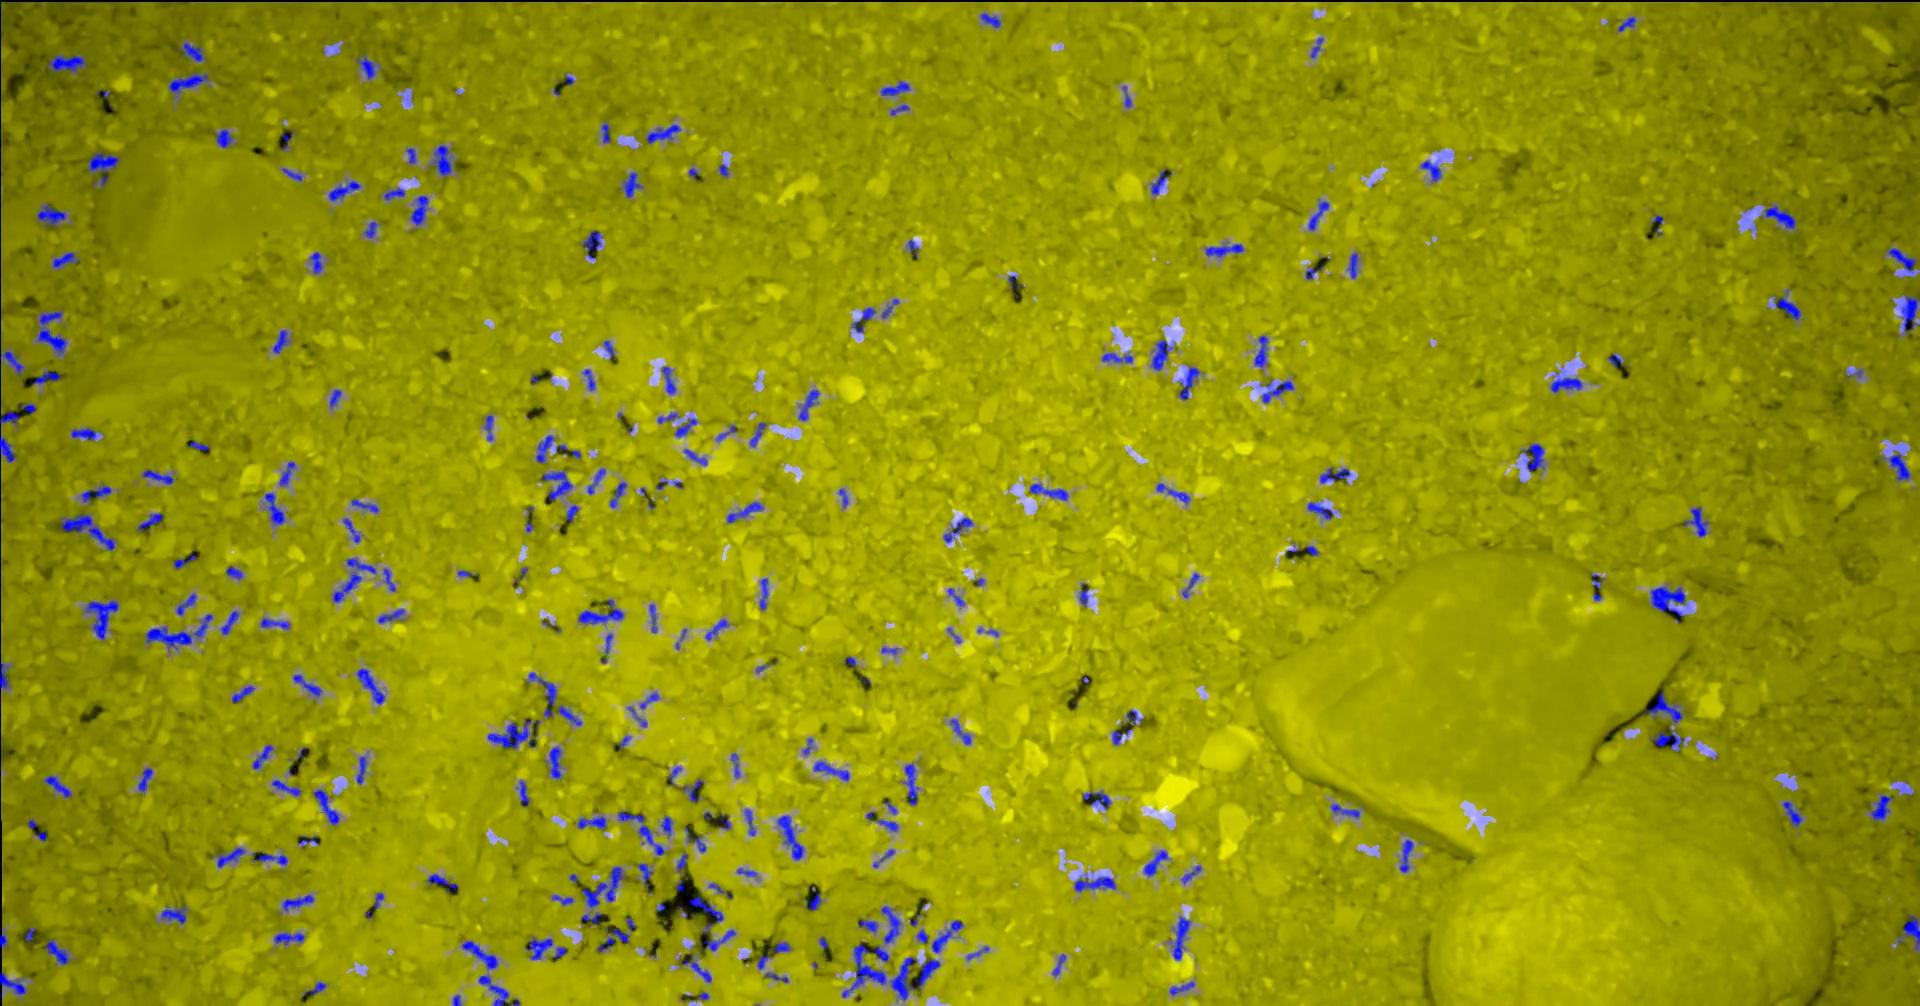ant: (146, 614, 215, 649), (618, 810, 665, 855), (61, 513, 116, 550), (334, 558, 378, 602), (583, 866, 627, 907), (489, 718, 541, 748), (37, 310, 69, 354), (85, 600, 119, 639), (1652, 586, 1688, 622), (530, 672, 557, 716), (1644, 691, 1684, 721), (89, 150, 121, 187), (778, 815, 805, 859), (579, 600, 625, 622), (1114, 710, 1144, 744), (463, 940, 499, 968), (1881, 450, 1912, 480), (933, 920, 964, 951), (358, 668, 386, 702), (170, 72, 210, 97), (315, 789, 342, 824), (690, 895, 725, 922), (480, 974, 510, 1005), (1890, 246, 1920, 276), (543, 471, 574, 500), (683, 953, 712, 982), (1173, 916, 1192, 960), (1761, 205, 1797, 227), (728, 500, 764, 522), (1898, 913, 1920, 950), (1775, 290, 1802, 319), (598, 927, 630, 951), (1076, 873, 1117, 890), (945, 517, 974, 542), (883, 904, 902, 942), (1180, 366, 1201, 399), (38, 203, 67, 227), (1686, 507, 1710, 536), (48, 55, 88, 72), (1153, 339, 1176, 370), (1263, 380, 1295, 401), (705, 929, 737, 950), (1031, 483, 1069, 500), (1158, 483, 1191, 503), (265, 492, 286, 525), (1653, 730, 1686, 751), (1902, 295, 1920, 332), (648, 124, 682, 144), (815, 761, 850, 780), (434, 144, 455, 175), (330, 180, 362, 201), (1552, 372, 1583, 392), (800, 389, 820, 420), (1145, 850, 1170, 876), (47, 937, 71, 964), (1523, 443, 1545, 471), (1309, 201, 1331, 230), (217, 847, 248, 868), (1, 970, 27, 995), (46, 775, 72, 798), (1872, 794, 1895, 821), (295, 674, 323, 696), (177, 41, 206, 61), (83, 484, 112, 504), (905, 762, 919, 804), (853, 307, 877, 332), (1, 351, 25, 375), (428, 873, 458, 892), (686, 826, 707, 852), (527, 937, 554, 959), (584, 230, 604, 258), (411, 196, 430, 225), (951, 718, 971, 744), (283, 894, 315, 911), (706, 619, 730, 640), (254, 744, 276, 768), (358, 53, 378, 79), (1208, 243, 1244, 257), (273, 779, 303, 795), (537, 434, 555, 462), (559, 705, 583, 725), (625, 171, 644, 197), (138, 512, 164, 531), (1784, 800, 1803, 826), (163, 904, 188, 923), (1152, 168, 1170, 194), (589, 467, 607, 494), (253, 851, 290, 864), (177, 593, 198, 615), (676, 417, 698, 437), (684, 779, 705, 801), (143, 469, 177, 483), (1084, 793, 1112, 809), (1401, 840, 1415, 873), (611, 481, 629, 507), (1183, 572, 1201, 597), (33, 370, 62, 385), (1255, 335, 1269, 367), (222, 610, 240, 634), (232, 685, 257, 702), (1, 0, 15, 30), (883, 80, 910, 95), (1, 434, 17, 462), (1321, 467, 1351, 481), (281, 461, 297, 486), (1309, 502, 1335, 518), (550, 746, 563, 779), (1422, 160, 1443, 180), (579, 815, 608, 829), (639, 862, 654, 889), (274, 329, 291, 353), (750, 422, 767, 446), (684, 448, 709, 465), (344, 518, 361, 542), (378, 608, 406, 622), (1333, 804, 1361, 818), (55, 251, 80, 267), (602, 633, 615, 663), (949, 587, 966, 608), (663, 366, 677, 392), (353, 498, 380, 512), (138, 767, 154, 791), (303, 981, 328, 996), (1183, 865, 1203, 884), (1171, 981, 1196, 995), (808, 887, 823, 909), (217, 128, 235, 147), (518, 780, 531, 807), (262, 617, 291, 629), (276, 932, 305, 944), (175, 553, 197, 568), (357, 756, 368, 784), (982, 11, 1002, 27), (1103, 352, 1134, 362), (72, 427, 97, 439), (1349, 251, 1360, 278), (745, 808, 757, 835), (385, 568, 397, 591), (641, 692, 660, 708), (1054, 953, 1067, 976), (283, 166, 303, 180), (761, 578, 770, 610), (385, 187, 406, 199), (311, 251, 324, 273), (584, 368, 597, 390), (877, 818, 899, 831), (1, 662, 11, 688), (582, 912, 604, 923), (1312, 37, 1324, 57), (875, 945, 890, 962), (1619, 17, 1637, 30), (1307, 265, 1324, 279), (659, 412, 681, 423), (1010, 276, 1022, 295), (662, 815, 674, 835), (1, 412, 22, 423), (300, 835, 320, 846), (552, 894, 575, 904), (364, 221, 378, 238), (568, 504, 580, 522), (733, 752, 742, 777), (189, 439, 211, 450), (331, 389, 343, 408), (860, 920, 879, 931), (227, 567, 244, 579), (771, 942, 791, 953), (1081, 583, 1090, 606), (678, 854, 690, 871), (1609, 353, 1623, 367), (603, 122, 612, 144), (22, 403, 38, 414), (651, 603, 658, 633), (486, 415, 494, 439), (909, 239, 919, 257), (408, 147, 418, 164), (720, 814, 731, 828), (918, 929, 930, 942), (1, 927, 9, 948)
